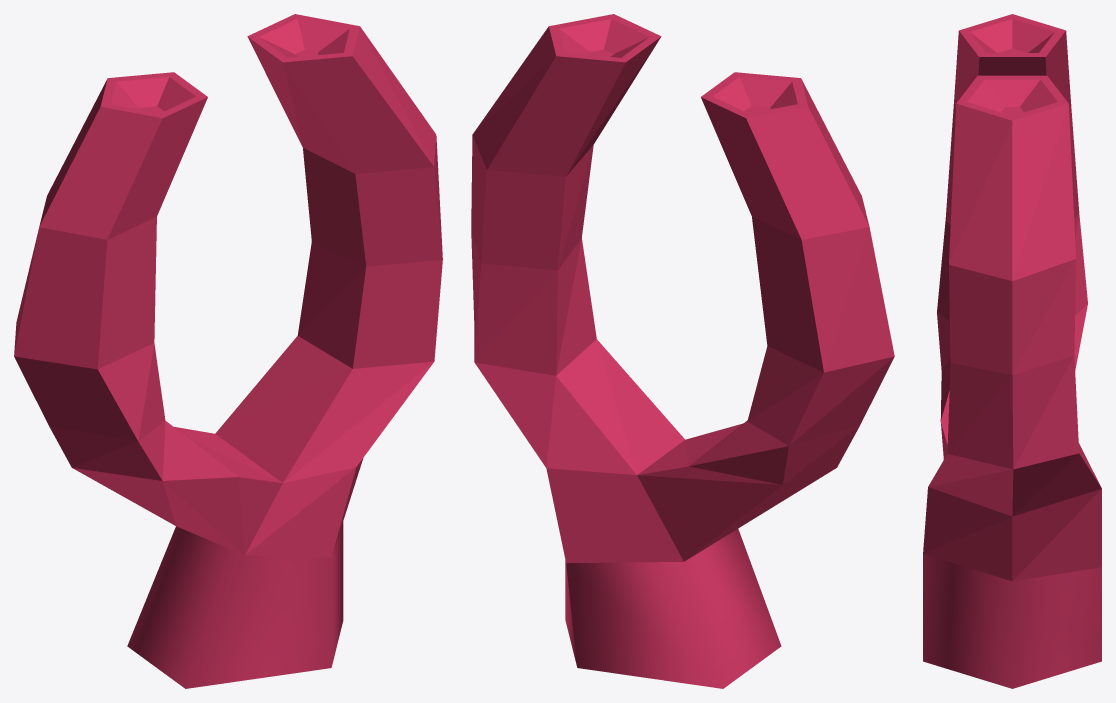
The model's file is coral 5.fbx.
The picture shows the model from 3 angles, left to right: view 1: azimuth 30°, elevation 25°; view 2: azimuth 150°, elevation 25°; view 3: azimuth 270°, elevation 25°; orthographic projection. The views are drawn at different scales.
Visible parts, largest first — view 1: Cylinder007; view 2: Cylinder007; view 3: Cylinder007.
Part boxes in pixels (x1,y1,x2,y2): Cylinder007: [14, 14, 442, 688]; Cylinder007: [471, 14, 894, 688]; Cylinder007: [923, 14, 1101, 688].
Size of the model in its own units: 3.25 by 4.34 by 1.22.
1 material, 1 textured.
